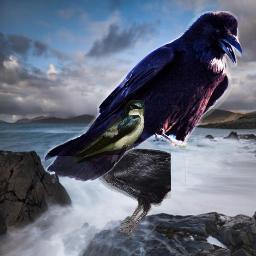Crow: (44, 11, 242, 182), (73, 144, 171, 239)
Swallow: (72, 100, 145, 165)
